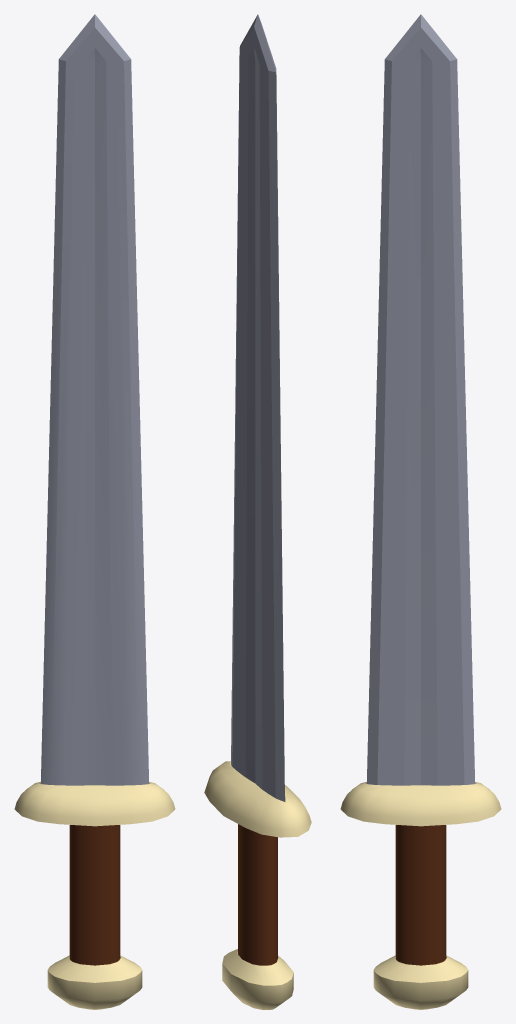
Rendered from weapon_set_sword.fbx.
The picture shows the model from 3 angles, left to right: view 1: azimuth 90°, elevation 25°; view 2: azimuth 210°, elevation 25°; view 3: azimuth 270°, elevation 25°; orthographic projection.
Parts seen in each view (by area): view 1: sword; view 2: sword; view 3: sword.
Part boxes in pixels (box(x1,y1,x2,y2)): sword: box(14, 14, 175, 1009); sword: box(204, 14, 311, 1009); sword: box(340, 14, 501, 1009).
Bounding box in the file's own units: 6.41 × 87.52 × 12.86.
